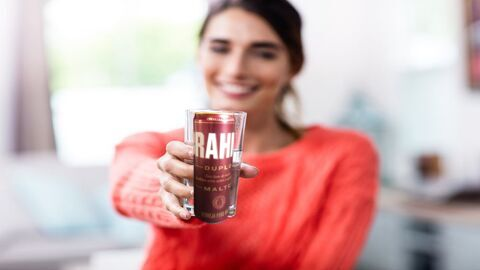duplo_malte: (191, 111, 238, 226)
